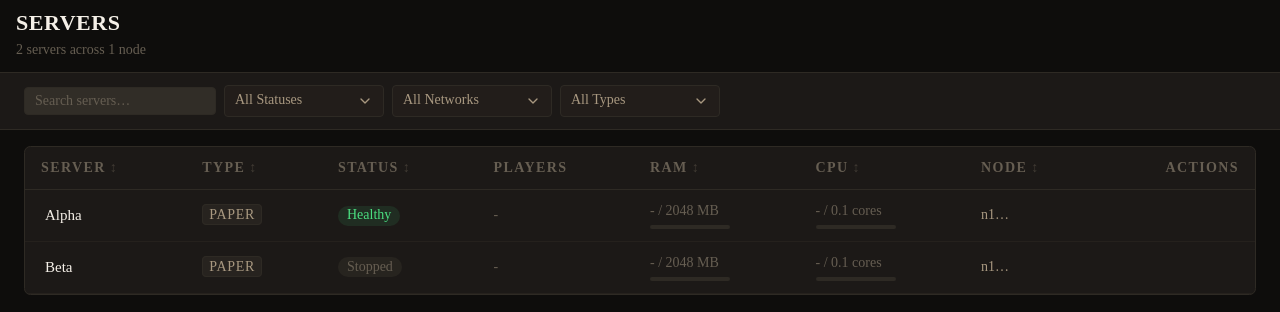
Test case: ServersPage › Filter status › filtering by status shows only matching servers
This screenshot has width=1280, height=312.
expect the text "Alpha" is shown: met, box [45,207,82,223]
Click the dropdown labelled "All Statuses ▼": [304, 101] box [224,85,384,117]
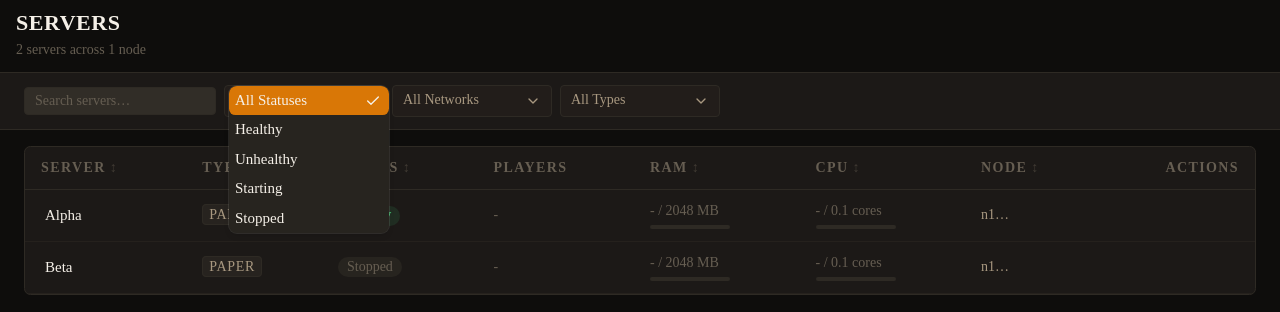
Click the option "Stopped": [260, 218] box [235,210,284,226]
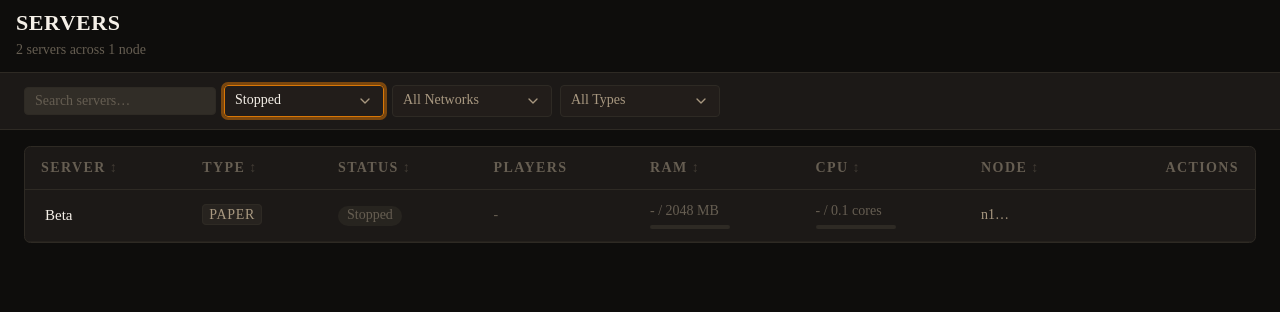
expect the text "Beta" is shown: met, box [45,207,72,223]
expect the text "Alpha" is gone: met
